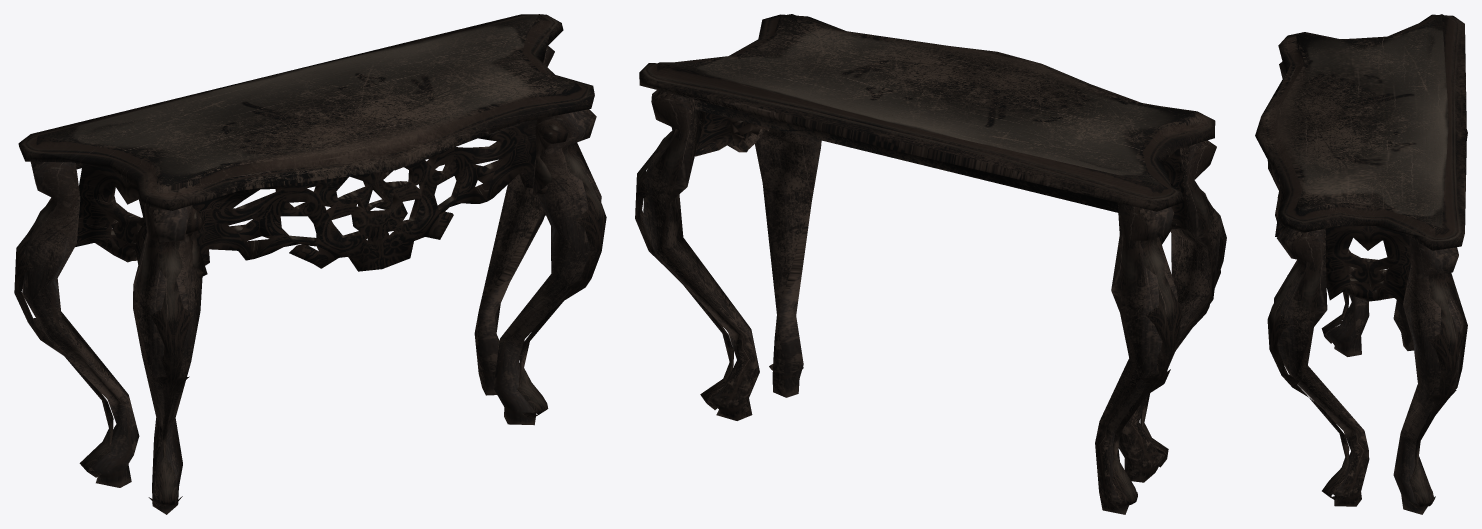
The model's file is ClassicConsole_01_1k_LOD2.fbx.
3 renders of one model, left to right at view 1: azimuth 30°, elevation 25°; view 2: azimuth 150°, elevation 25°; view 3: azimuth 270°, elevation 25°, orthographic. The views are drawn at different scales.
Parts seen in each view (by area): view 1: ClassicConsole_01; view 2: ClassicConsole_01; view 3: ClassicConsole_01.
Boxes of the visible parts, x1,y1,x2,y2 form: ClassicConsole_01: (14,14,606,514); ClassicConsole_01: (635,14,1226,514); ClassicConsole_01: (1255,14,1467,514).
Size of the model in its own units: 154 by 95.01 by 59.79.
